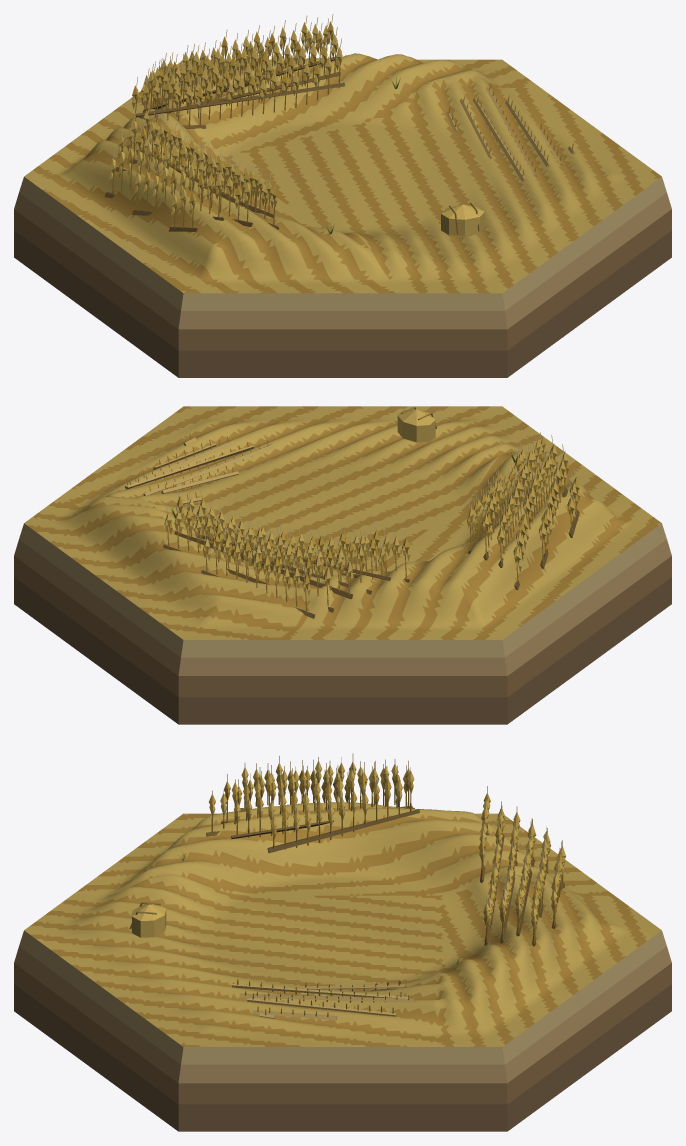
Rendered from catan_terrain_wheat_02.glb.
The picture shows the model from 3 angles, top to bottom: view 1: azimuth 30°, elevation 25°; view 2: azimuth 150°, elevation 25°; view 3: azimuth 270°, elevation 25°; orthographic projection.
Visible parts, largest first — view 1: catan_terrain_wheat_02_ground, catan_terrain_wheat_02_decoration; view 2: catan_terrain_wheat_02_ground, catan_terrain_wheat_02_decoration; view 3: catan_terrain_wheat_02_ground, catan_terrain_wheat_02_decoration.
Part boxes in pixels (x1=…): catan_terrain_wheat_02_ground: x1=14, y1=53, x2=671, y2=377; catan_terrain_wheat_02_decoration: x1=104, y1=14, x2=575, y2=237; catan_terrain_wheat_02_ground: x1=14, y1=406, x2=671, y2=724; catan_terrain_wheat_02_decoration: x1=125, y1=406, x2=580, y2=618; catan_terrain_wheat_02_ground: x1=14, y1=802, x2=671, y2=1131; catan_terrain_wheat_02_decoration: x1=129, y1=753, x2=565, y2=1020.
Bounding box in the file's own units: 1.71 × 0.5625 × 1.97.
